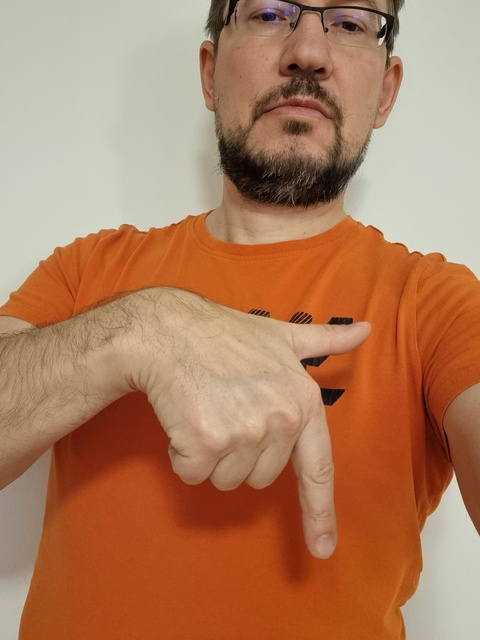GestDown: (165, 322, 371, 557)
